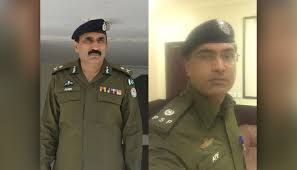uniform: (51, 54, 142, 167)
